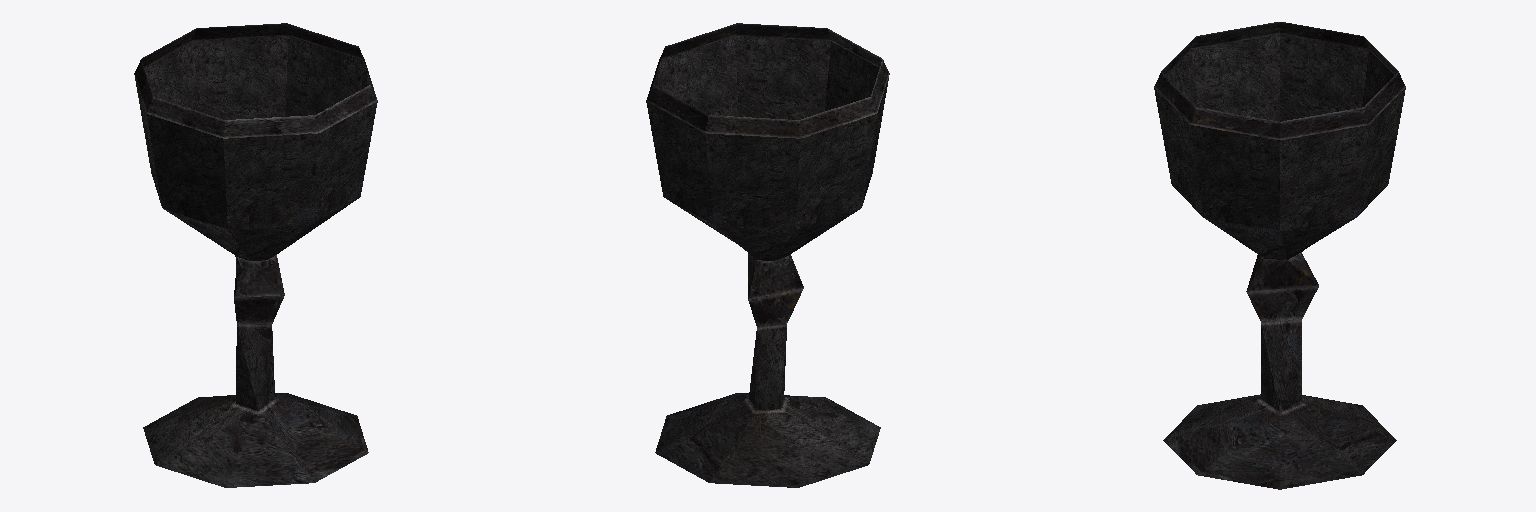
The picture shows the model from 3 angles: view 1: azimuth 30°, elevation 25°; view 2: azimuth 150°, elevation 25°; view 3: azimuth 270°, elevation 25°; orthographic projection.
Parts seen in each view (by area): view 1: Default_Layer; view 2: Default_Layer; view 3: Default_Layer.
Part boxes in pixels (x1,y1,x2,y2): Default_Layer: (134, 23, 377, 487); Default_Layer: (646, 23, 889, 487); Default_Layer: (1154, 22, 1405, 489).
Size of the model in its own units: 0.7576 by 1.22 by 0.7576.
1 materials, 1 textured.